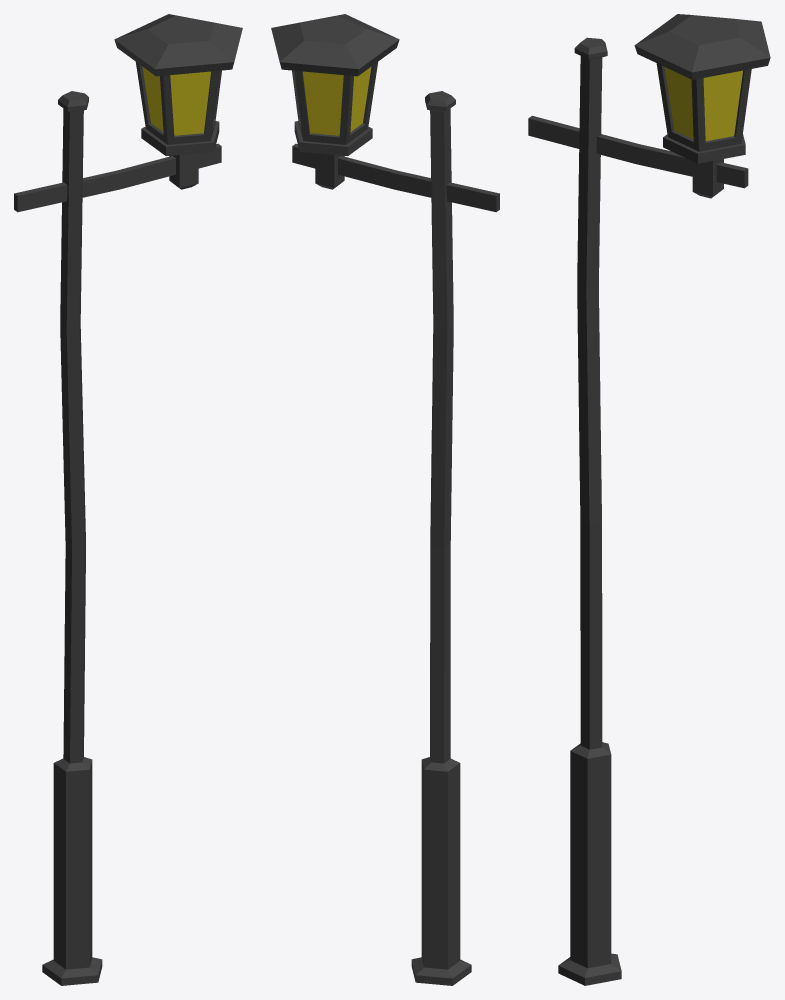
The model's file is SM_lamp_street_01.fbx.
The picture shows the model from 3 angles, left to right: view 1: azimuth 30°, elevation 25°; view 2: azimuth 150°, elevation 25°; view 3: azimuth 330°, elevation 25°; orthographic projection. The views are drawn at different scales.
Visible parts, largest first — view 1: Cylinder048; view 2: Cylinder048; view 3: Cylinder048.
Part boxes in pixels (x1,y1,x2,y2): Cylinder048: [14, 14, 242, 985]; Cylinder048: [271, 14, 499, 985]; Cylinder048: [528, 14, 770, 985].
Bounding box in the file's own units: 43.37 × 167 × 21.75.
